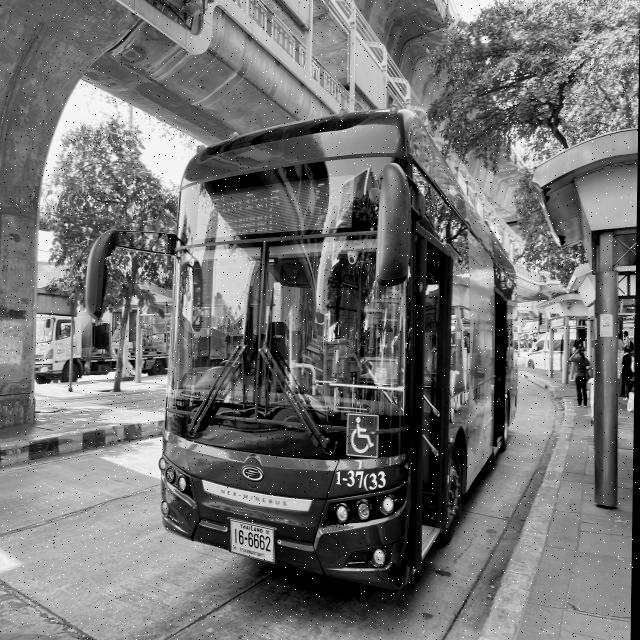Bus-Line-Number: (310, 172, 362, 230)
Destination-Sign-Normal: (195, 186, 286, 239)
TSB-Bus: (159, 109, 520, 593)
